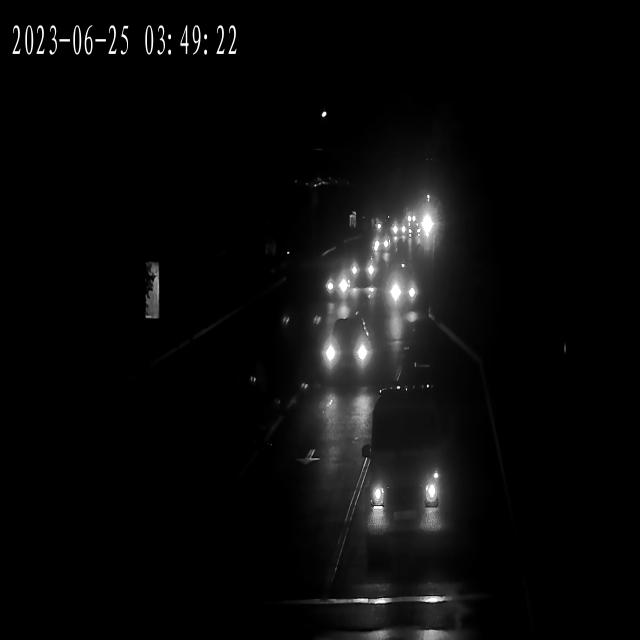Car: (366, 394, 450, 556), (322, 324, 378, 381), (341, 251, 378, 286), (387, 273, 423, 308), (320, 268, 353, 300), (368, 234, 394, 256), (390, 220, 409, 237)
